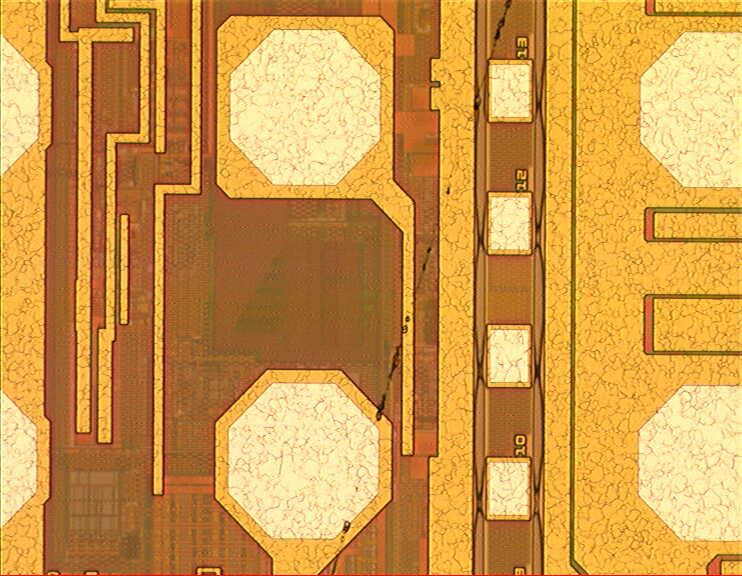SCRATCH: (328, 2, 522, 574)
